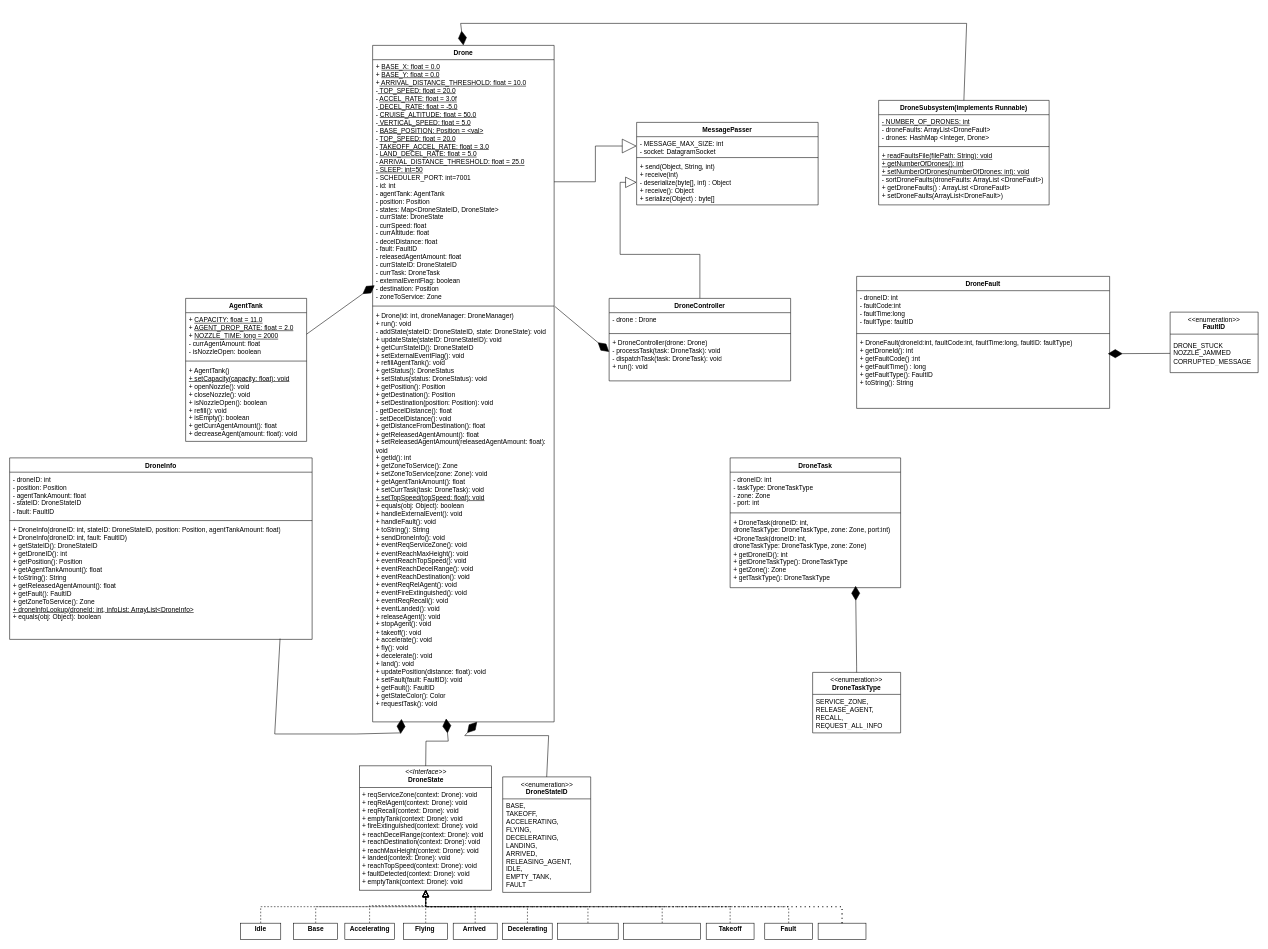
The diagram is 1268 pixels wide and 949 high, and some of its shapes have lost their labels. Here are the shapes that lost their labels. From the top down, the centre of each, then its label:
At point (587, 931): "Landing".
At point (662, 931): "Releasing_Agent".
At point (842, 931): "Empty_Tank".
